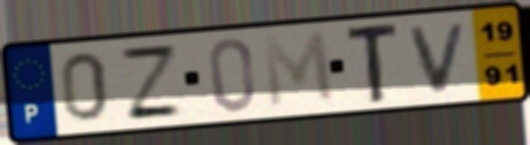0: (57, 49, 115, 126), (205, 36, 258, 115)
M: (259, 28, 339, 111)
T: (345, 19, 402, 107)
V: (406, 19, 473, 96)
Z: (116, 43, 186, 122)
